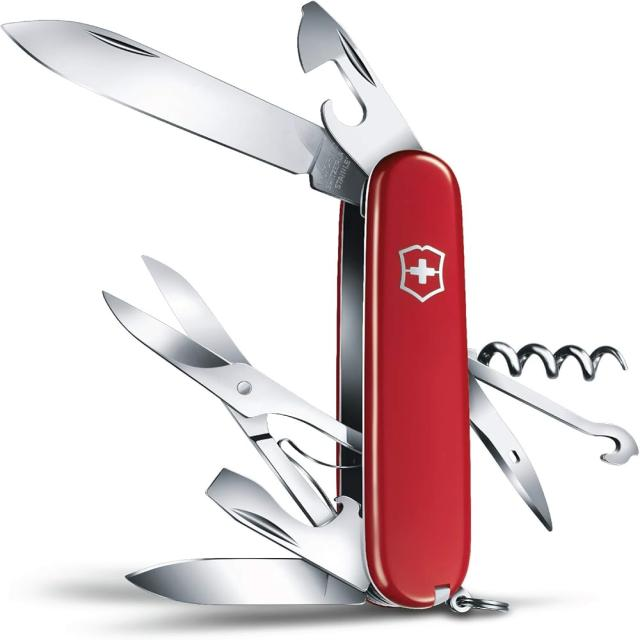knife victorinox: (364, 150, 470, 608)
